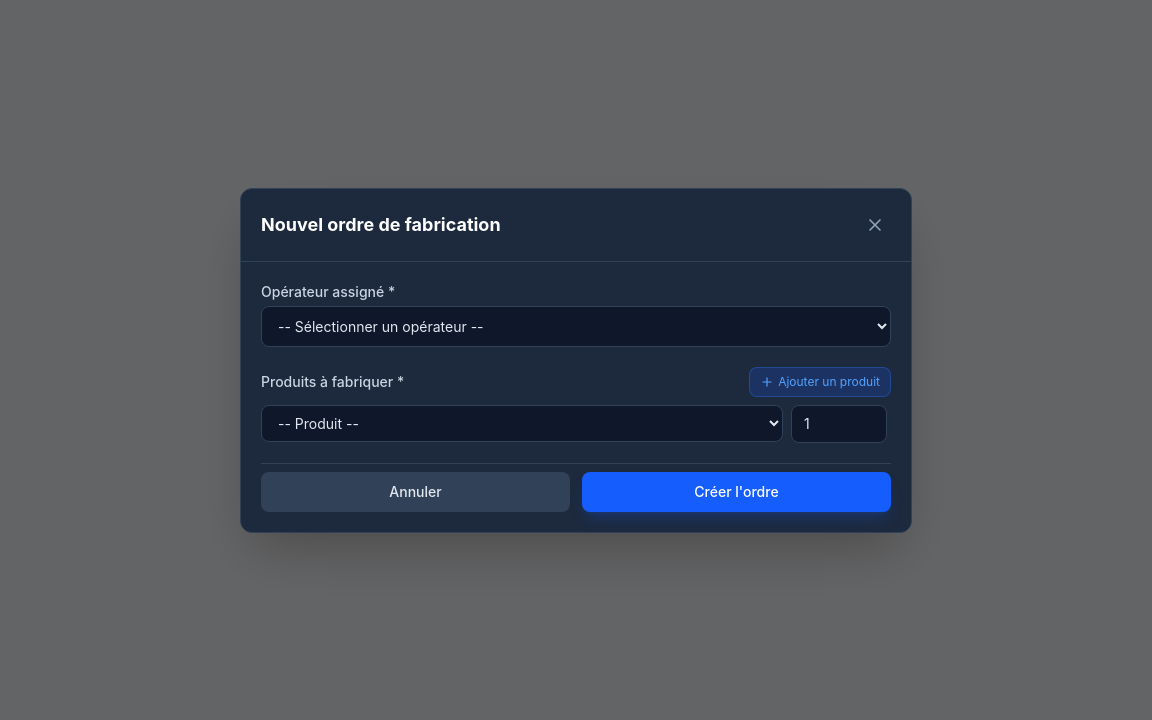
Test: OrderForm — Calcul agrégé des besoins multi-produits › agrège les besoins matières sur plusieurs produits et signale les manques
The image size is (1152, 720).
Select "[PRD-1] Boîtier A" in the dropdown below "Produits à fabriquer *": x=522, y=424 [261,405,783,442]
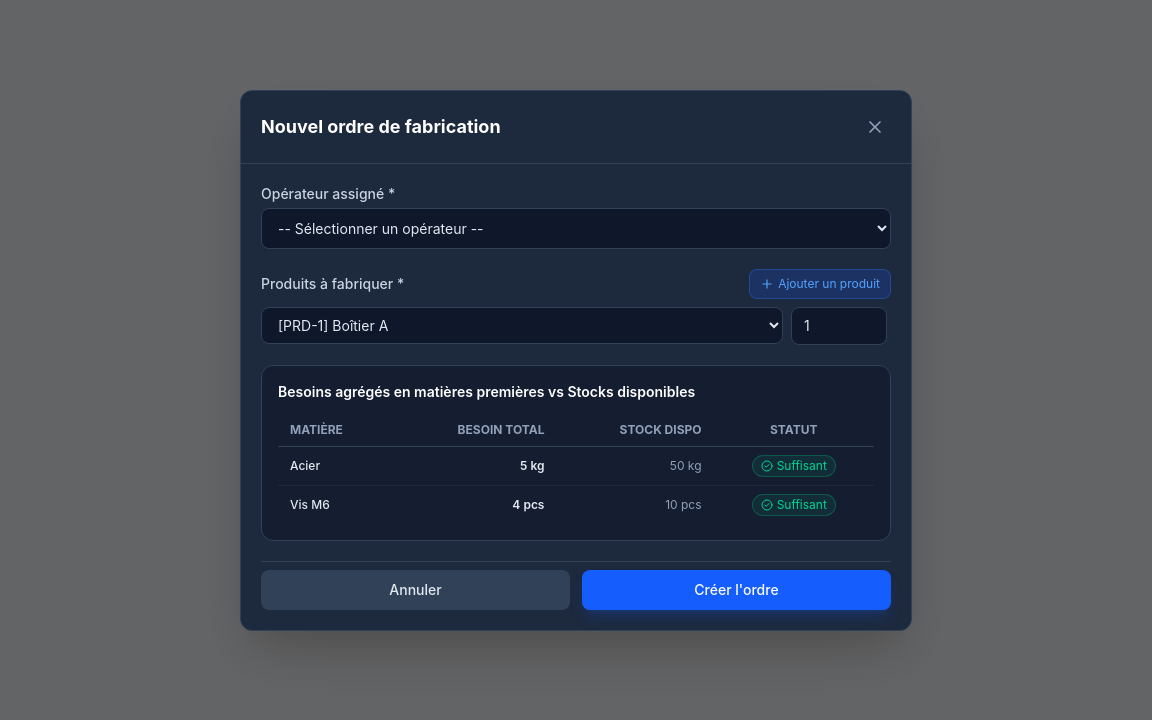
Replace the text in the number field with "3": x=839, y=326 [791,306,887,344]
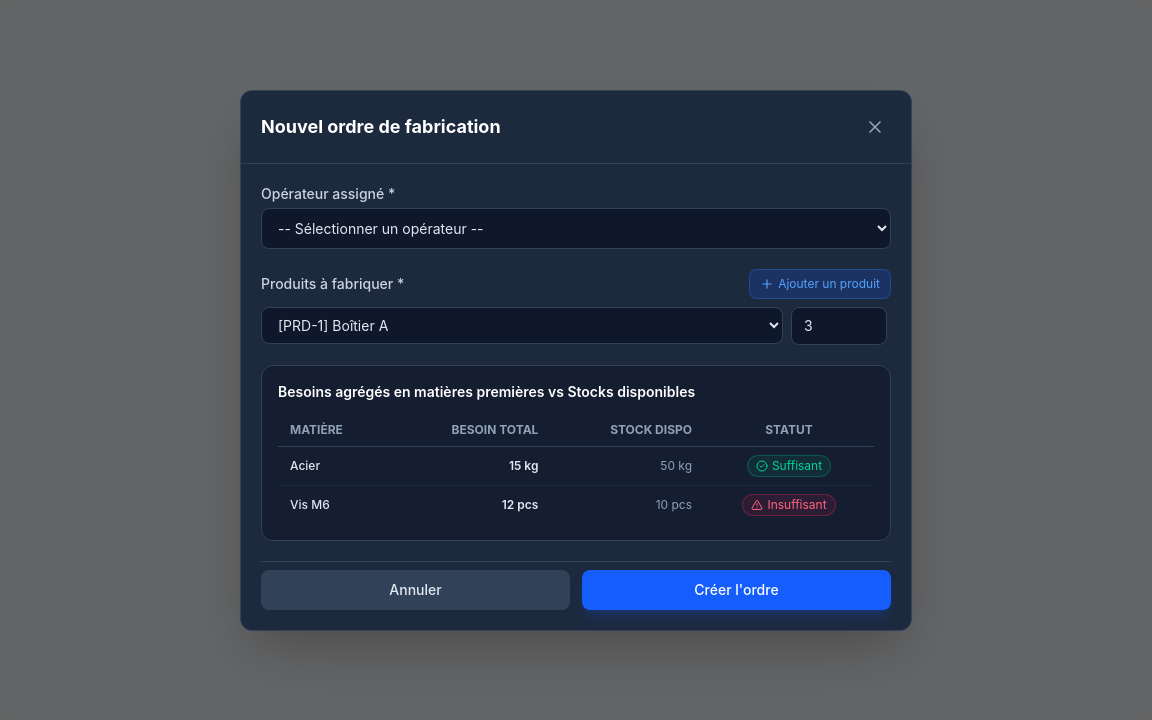
Click the button "Ajouter un produit": x=820, y=284 [749,268,891,298]
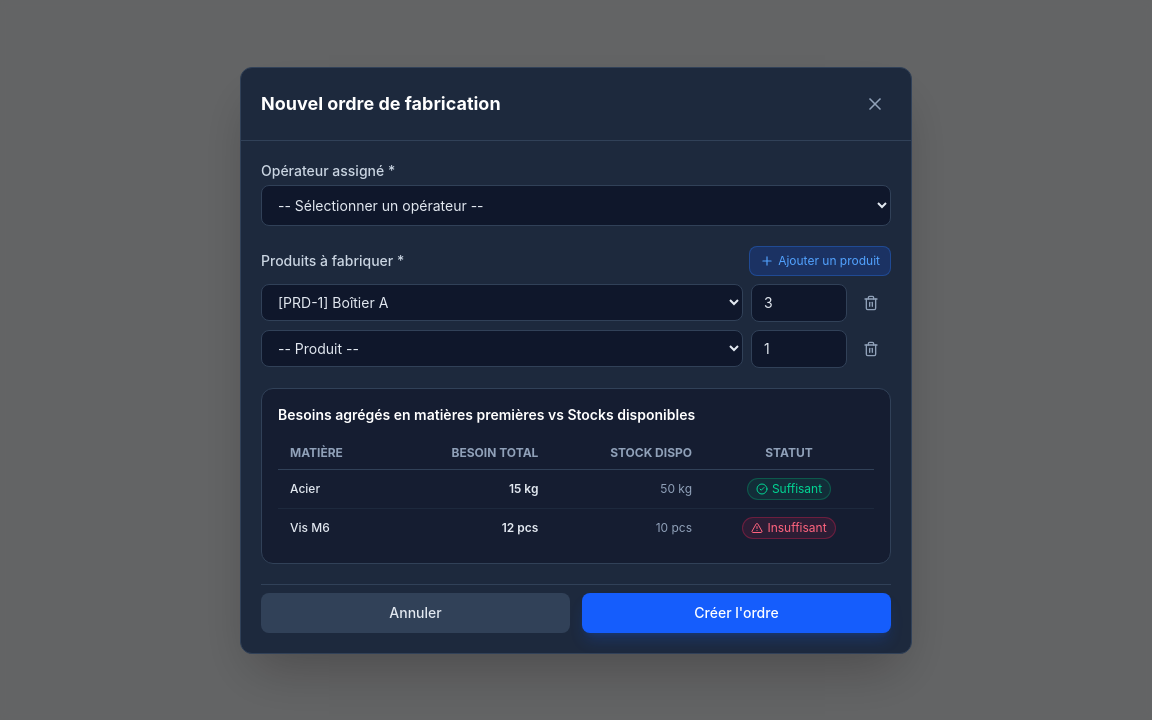
Select "[PRD-2] Couvercle B" in the 3rd dropdown: x=502, y=348 [261,330,743,367]
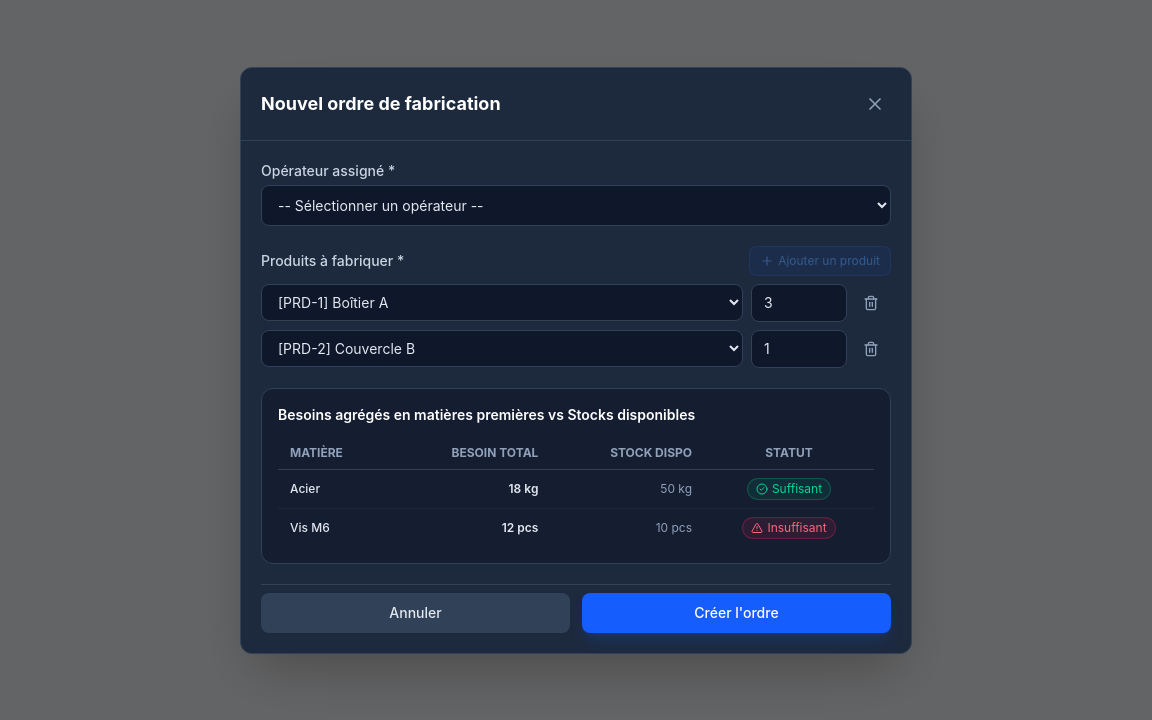
Replace the text in the 2nd number field with "2": x=799, y=348 [751,330,847,368]
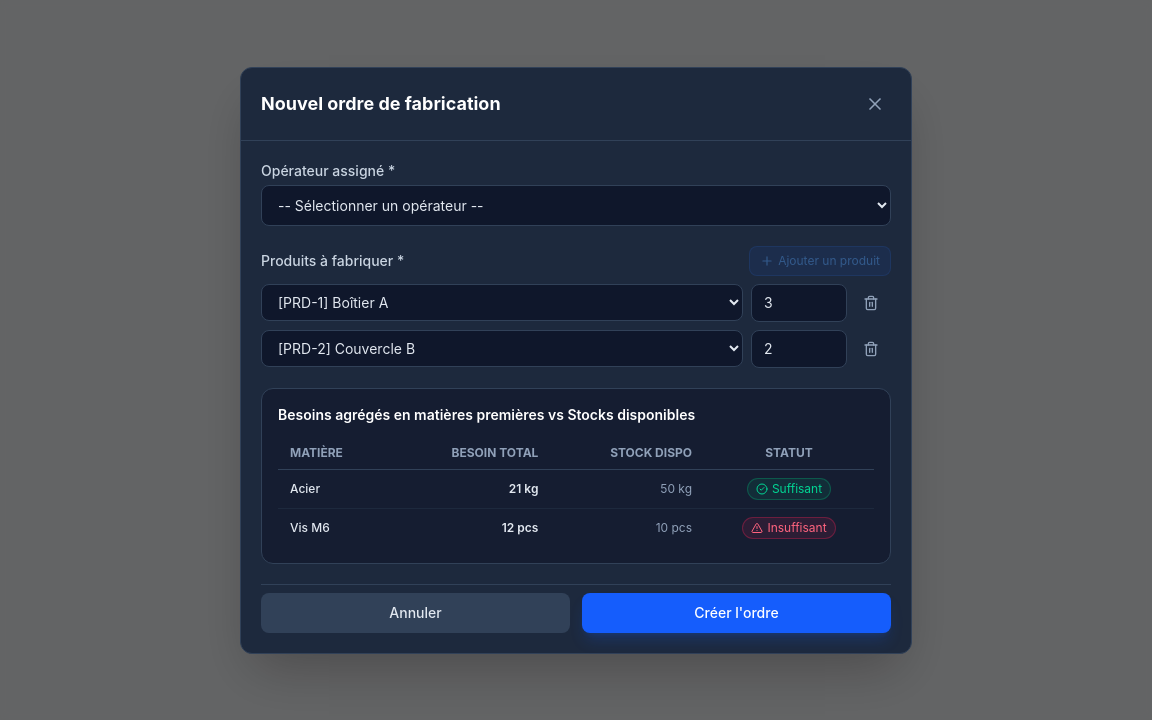
Check: the text "12 pcs" is shown, box [390,508,550,546]
Check: the text "Suffisant" is shown, box [747,478,831,500]
Check: the text "21 kg" is shown, box [390,469,550,508]
